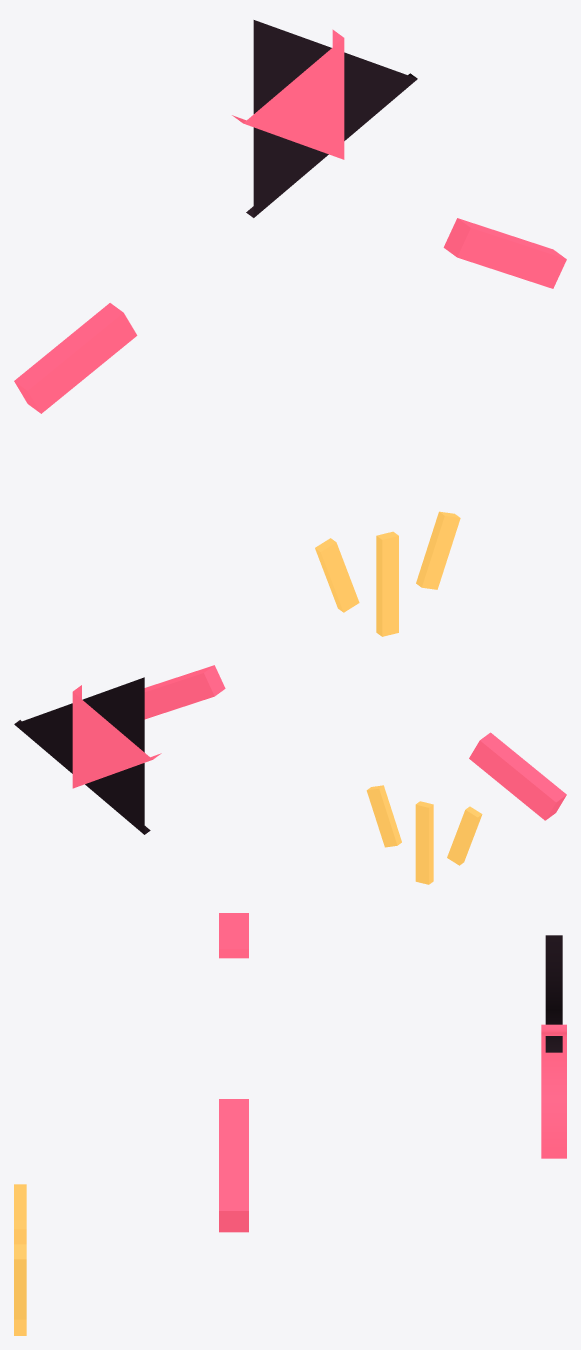
File: avatar-brasa-kit-estrategista.glb
3 renders of one model, top to bottom at view 1: azimuth 30°, elevation 25°; view 2: azimuth 150°, elevation 25°; view 3: azimuth 270°, elevation 25°, orthographic. The views are drawn at different scales.
Visible parts, largest first — view 1: kit_brasa_estrategista_badgeOuter, kit_brasa_estrategista_badgeInner, kit_brasa_estrategista_shoulderChevronR, kit_brasa_estrategista_shoulderChevronL, kit_brasa_estrategista_route1, kit_brasa_estrategista_route2, kit_brasa_estrategista_route0; view 2: kit_brasa_estrategista_badgeOuter, kit_brasa_estrategista_badgeInner, kit_brasa_estrategista_shoulderChevronR, kit_brasa_estrategista_shoulderChevronL, kit_brasa_estrategista_route1, kit_brasa_estrategista_route2, kit_brasa_estrategista_route0; view 3: kit_brasa_estrategista_shoulderChevronL, kit_brasa_estrategista_badgeInner, kit_brasa_estrategista_badgeOuter, kit_brasa_estrategista_shoulderChevronR, kit_brasa_estrategista_route2, kit_brasa_estrategista_route1.
Boxes of the visible parts, x1,y1,x2,y2 form: kit_brasa_estrategista_badgeOuter: (246, 20, 417, 217); kit_brasa_estrategista_badgeInner: (232, 29, 344, 159); kit_brasa_estrategista_shoulderChevronR: (14, 303, 137, 413); kit_brasa_estrategista_shoulderChevronL: (443, 218, 566, 288); kit_brasa_estrategista_route1: (376, 531, 398, 636); kit_brasa_estrategista_route2: (416, 511, 460, 589); kit_brasa_estrategista_route0: (315, 538, 359, 612); kit_brasa_estrategista_badgeOuter: (14, 677, 150, 834); kit_brasa_estrategista_badgeInner: (72, 685, 161, 788); kit_brasa_estrategista_shoulderChevronR: (469, 732, 566, 820); kit_brasa_estrategista_shoulderChevronL: (144, 665, 225, 719); kit_brasa_estrategista_route1: (415, 801, 433, 884); kit_brasa_estrategista_route2: (366, 785, 401, 847); kit_brasa_estrategista_route0: (447, 806, 482, 865); kit_brasa_estrategista_shoulderChevronL: (219, 1099, 248, 1232); kit_brasa_estrategista_badgeInner: (541, 1024, 566, 1158); kit_brasa_estrategista_badgeOuter: (545, 935, 562, 1052); kit_brasa_estrategista_shoulderChevronR: (219, 913, 248, 958); kit_brasa_estrategista_route2: (14, 1244, 26, 1319); kit_brasa_estrategista_route1: (14, 1220, 26, 1335).
Size of the model in its own units: 0.6404 by 0.4676 by 0.518.
